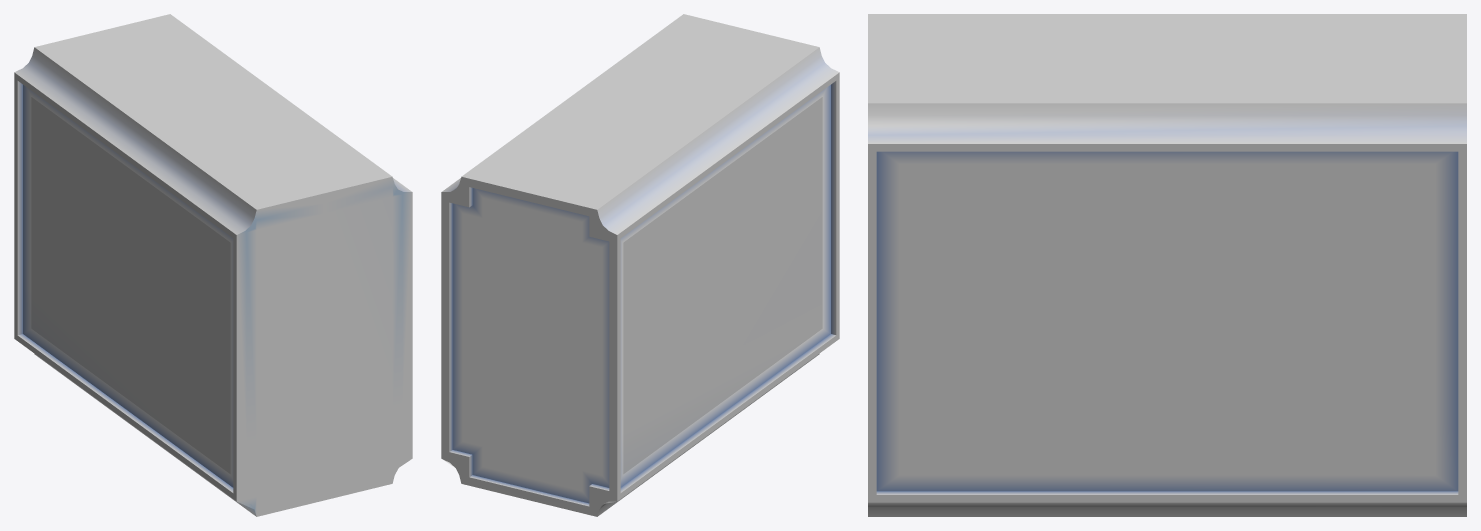
The model's file is Pushblock_tall_01.fbx.
The picture shows the model from 3 angles, left to right: view 1: azimuth 30°, elevation 25°; view 2: azimuth 150°, elevation 25°; view 3: azimuth 270°, elevation 25°; orthographic projection. The views are drawn at different scales.
Parts seen in each view (by area): view 1: Pushblock_tall; view 2: Pushblock_tall; view 3: Pushblock_tall.
Part boxes in pixels (x1,y1,x2,y2): Pushblock_tall: (14, 14, 412, 516); Pushblock_tall: (441, 14, 839, 516); Pushblock_tall: (868, 14, 1466, 516).
Size of the model in its own units: 320 by 534 by 700.
